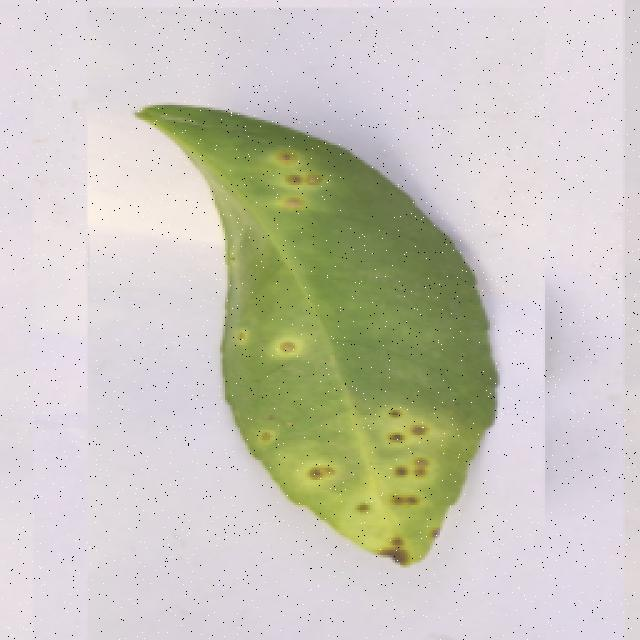canker: (144, 95, 488, 572)
